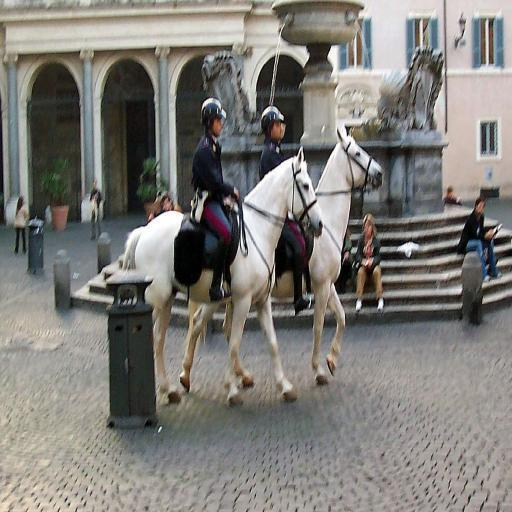horse: (180, 128, 384, 391), (120, 142, 324, 400)
